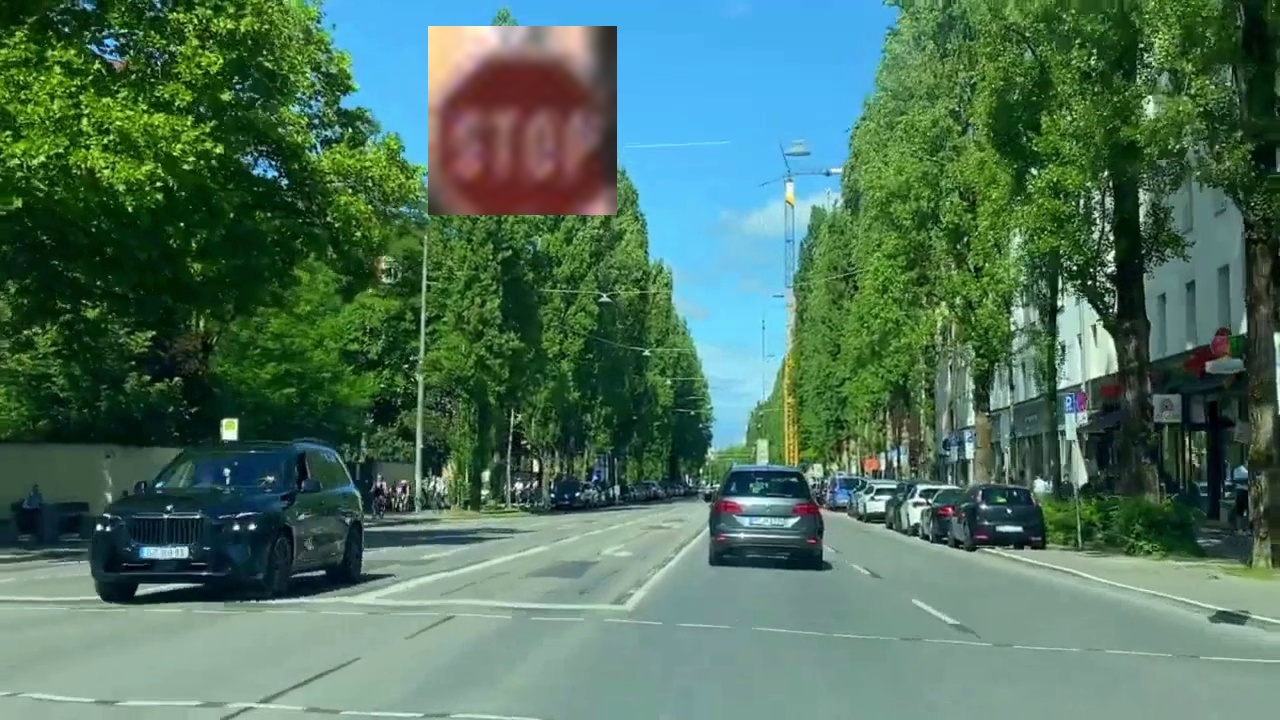Stop: (428, 26, 617, 215)
